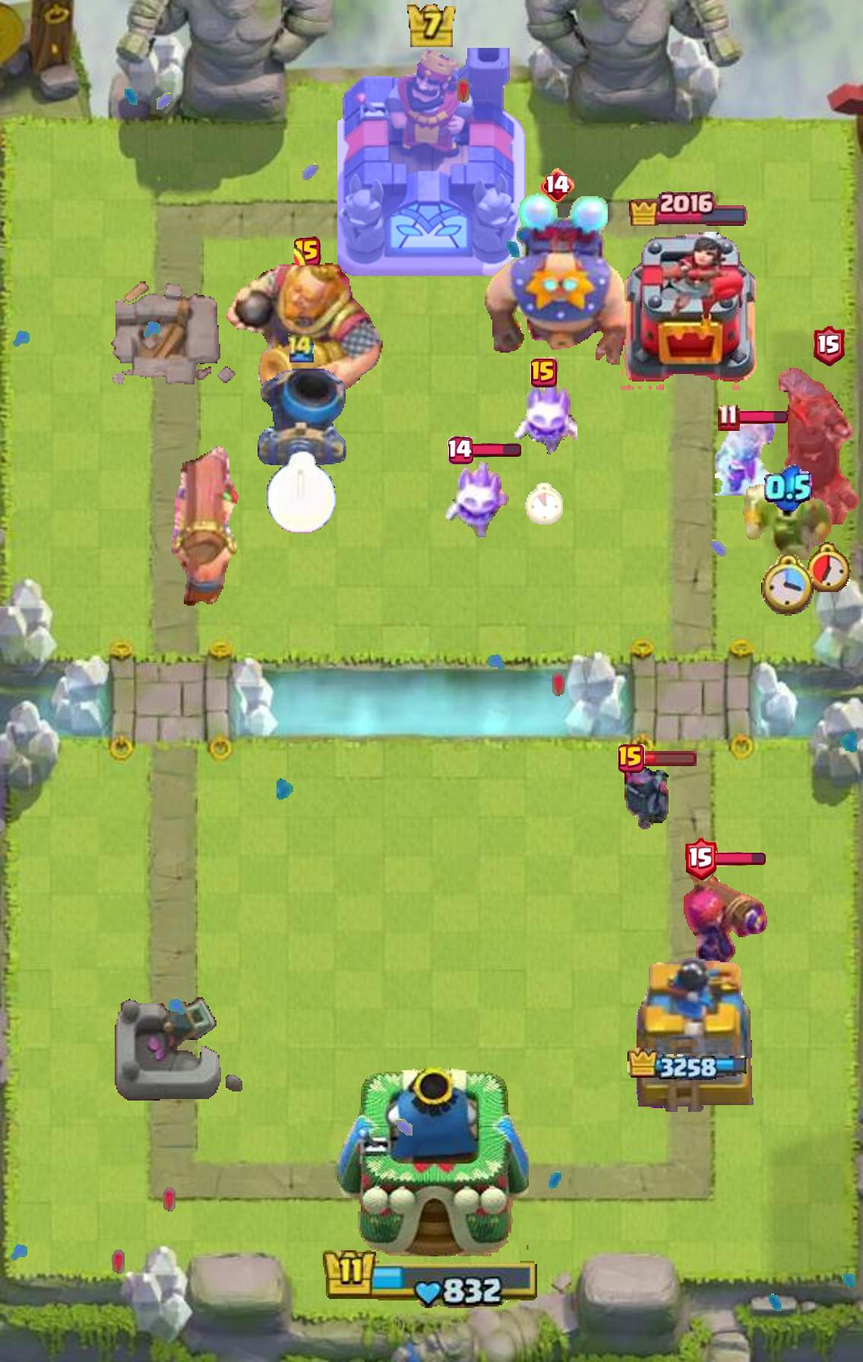elixir: (765, 464, 812, 512)
